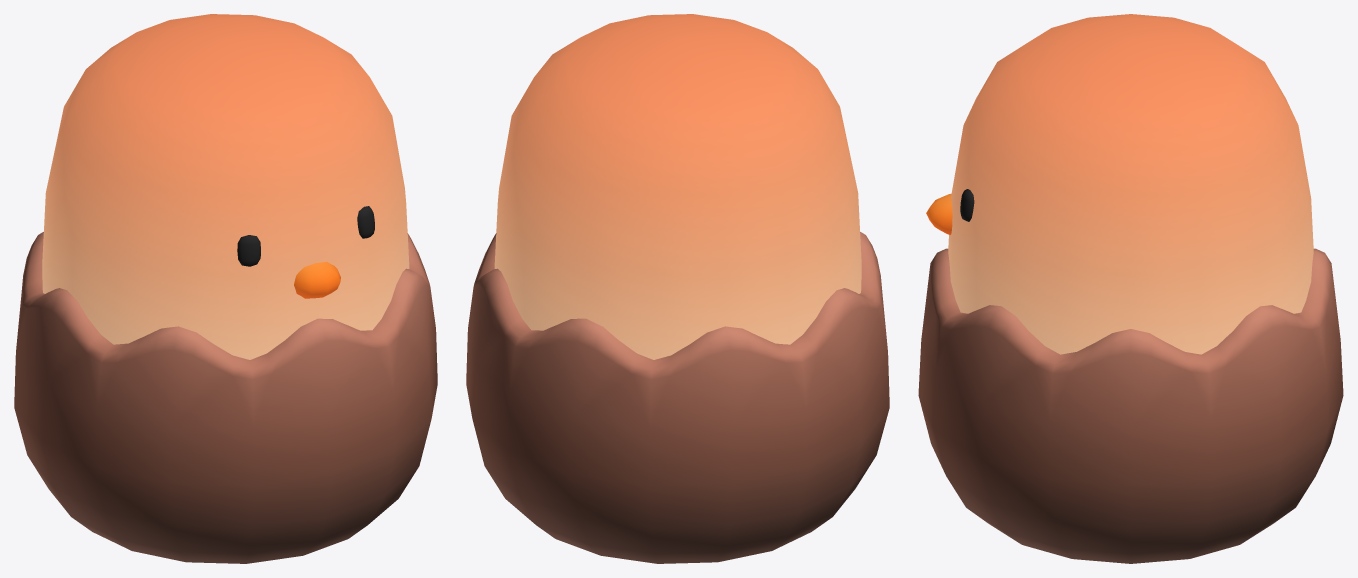
The model's file is Night_Lamp_01.glb.
3 views of the same model, side by side, from view 1: azimuth 30°, elevation 25°; view 2: azimuth 150°, elevation 25°; view 3: azimuth 270°, elevation 25° (orthographic).
Parts seen in each view (by area): view 1: Night_Lamp_01; view 2: Night_Lamp_01; view 3: Night_Lamp_01.
Boxes of the visible parts, x1,y1,x2,y2 form: Night_Lamp_01: (14, 14, 437, 563); Night_Lamp_01: (466, 14, 889, 563); Night_Lamp_01: (918, 14, 1343, 563).
Size of the model in its own units: 0.1259 by 0.1528 by 0.1259.
2 materials, 2 textured.
